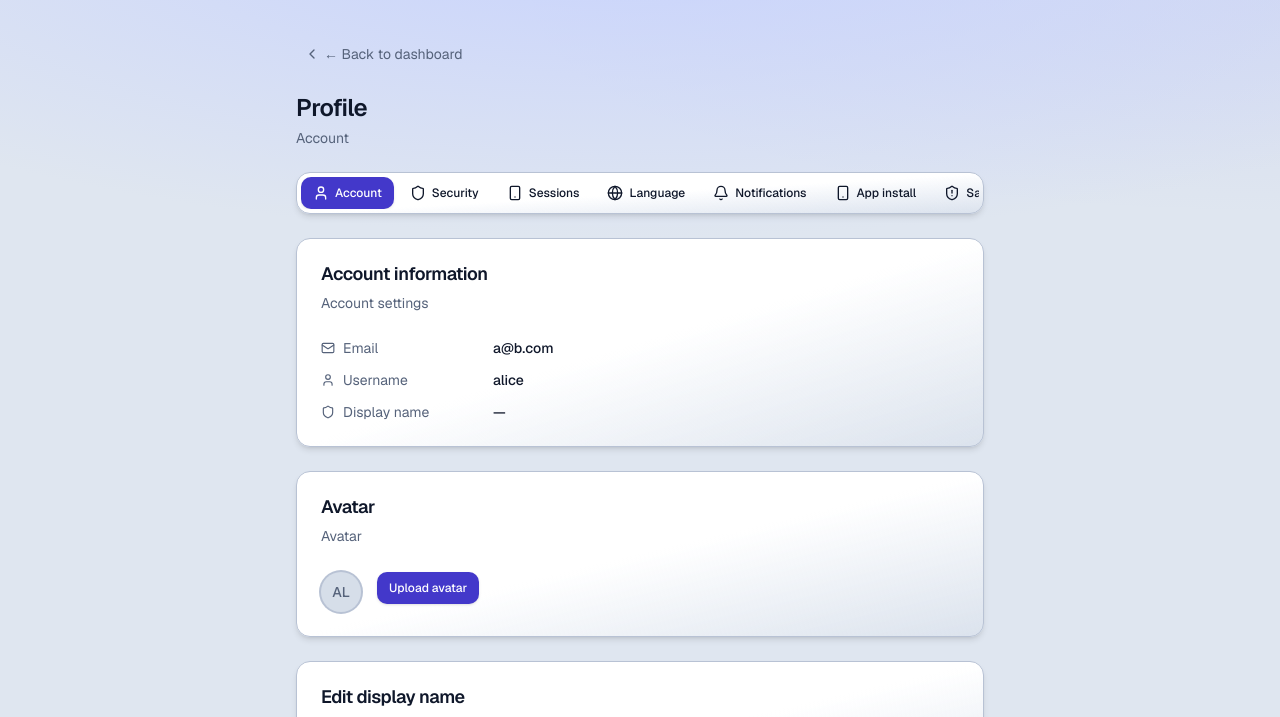
Scenario: ProfilePage — authenticated › interface language › renders interface language selector
The image size is (1280, 717).
Click the button "Language".
click(646, 193)  # box [595,177,697,209]
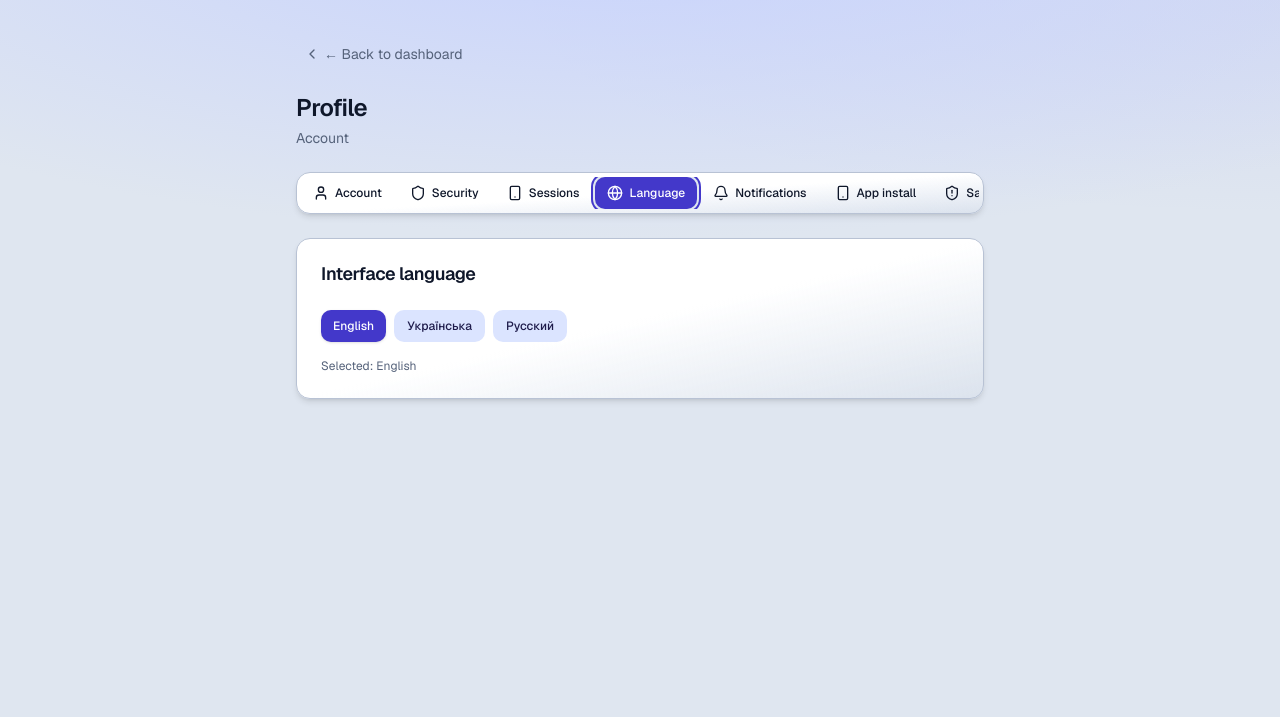
Expected: the button "English" is shown, [321,310,386,342]
Expected: the button "Українська" is shown, [394,310,485,342]
Expected: the button "Русский" is shown, [493,310,567,342]
